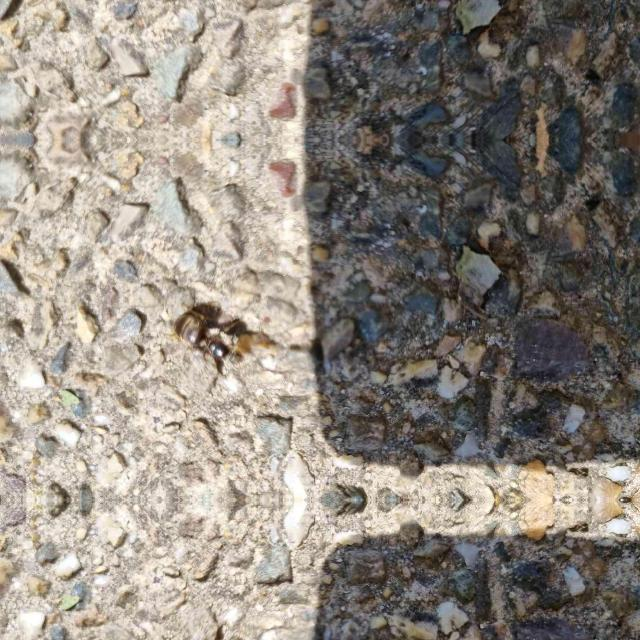Lasius: (159, 307, 273, 383), (159, 614, 273, 640)
